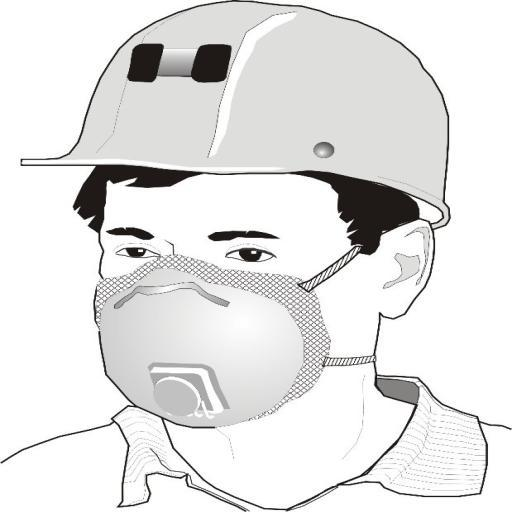mask: (84, 252, 338, 433)
